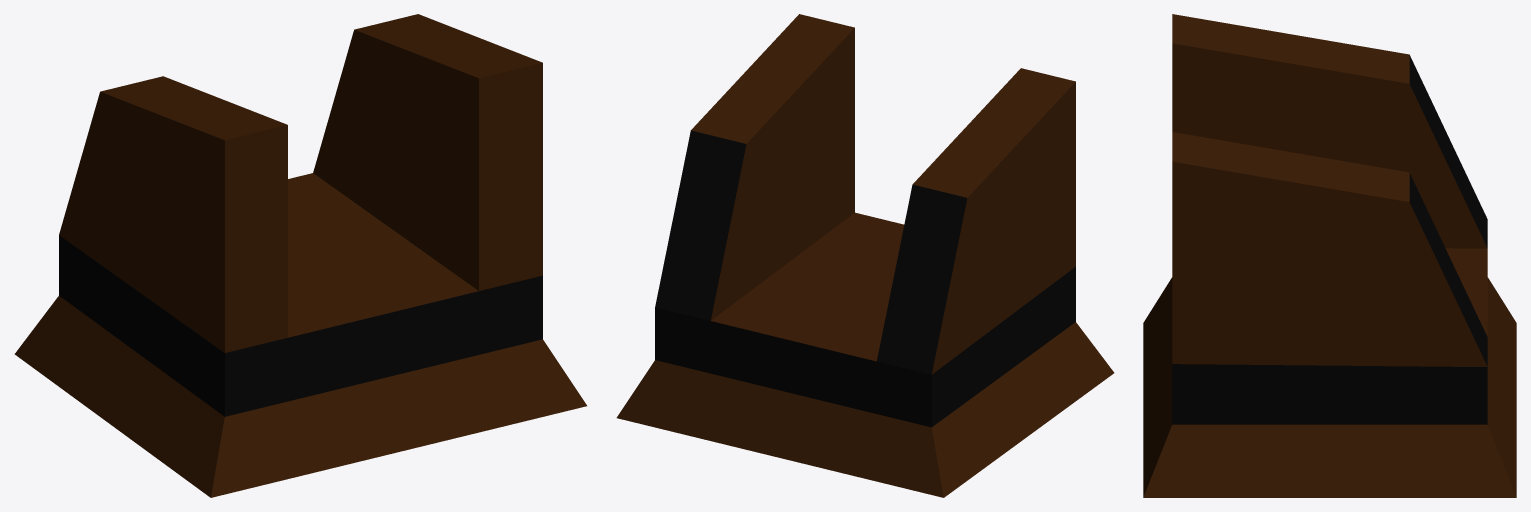
The model's file is turret_body.obj.
3 views of the same model, side by side, from view 1: azimuth 30°, elevation 25°; view 2: azimuth 150°, elevation 25°; view 3: azimuth 270°, elevation 25° (orthographic). The views are drawn at different scales.
Parts seen in each view (by area): view 1: Cube_Cube.001; view 2: Cube_Cube.001; view 3: Cube_Cube.001.
Part boxes in pixels (box(x1,y1,x2,y2)): Cube_Cube.001: box(14, 14, 586, 497); Cube_Cube.001: box(616, 14, 1114, 497); Cube_Cube.001: box(1143, 14, 1516, 497).
Bounding box in the file's own units: 0.3814 × 0.3283 × 0.3444.
